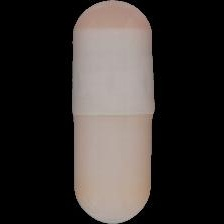0555-1054: (0, 0, 224, 224)
